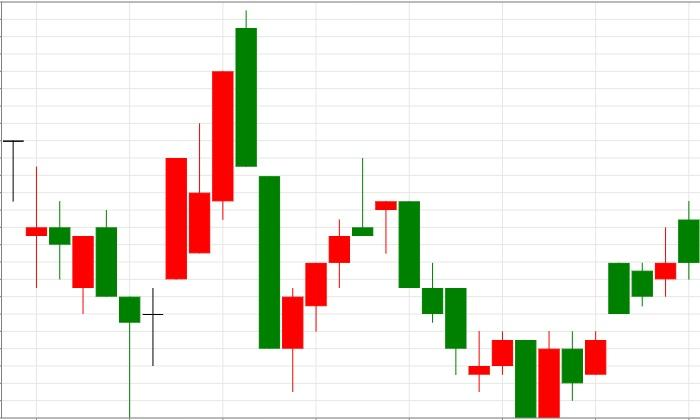bearish_engulfing_fall: (281, 157, 421, 392)
hammer_rise: (4, 139, 141, 417)
